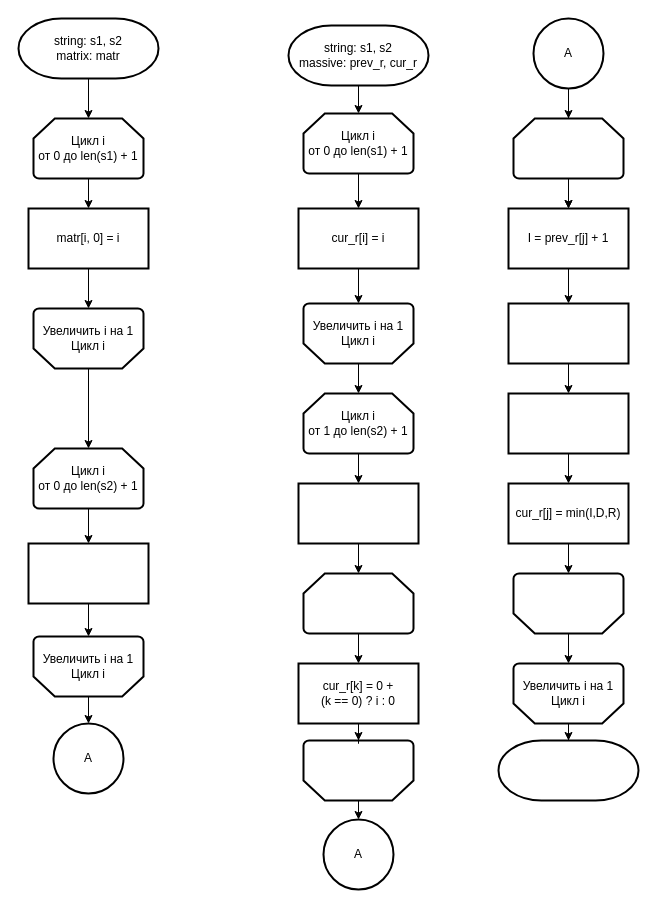
Image size: 656x907. Some labels were removed from this diagram. The centre of each missing label's shape, as x and y in pixels:
D = cur_r[j - 1] + 1: the point at 568,333
matr[0, i] = i: the point at 88,573
prev_r = cur_r: the point at 358,513
R = prev_r[j - 1] + (s1[j - 1] != s2[i - 1]) ? 1 : 0: the point at 568,423
вернуть cur_r[len(a)]: the point at 568,770
Увеличить j на 1 Цикл j: the point at 568,603
Увеличить k на 1 Цикл k: the point at 358,770
Цикл j от 1 до len(s1) + 1: the point at 568,148
Цикл k от 0 до len(s1) + 1: the point at 358,603
